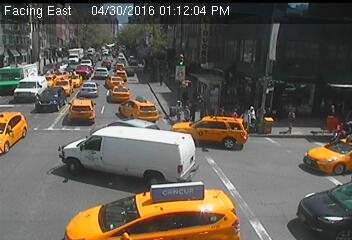neg: (83, 61, 116, 105), (10, 66, 43, 110), (113, 119, 140, 154), (137, 171, 163, 205), (180, 179, 206, 213), (50, 137, 76, 171), (276, 164, 299, 195), (189, 46, 209, 71), (263, 61, 282, 87), (308, 66, 324, 86)
pos: (287, 109, 305, 133), (245, 103, 263, 127), (167, 97, 185, 121), (231, 104, 243, 120), (188, 102, 199, 117), (217, 104, 226, 116)
